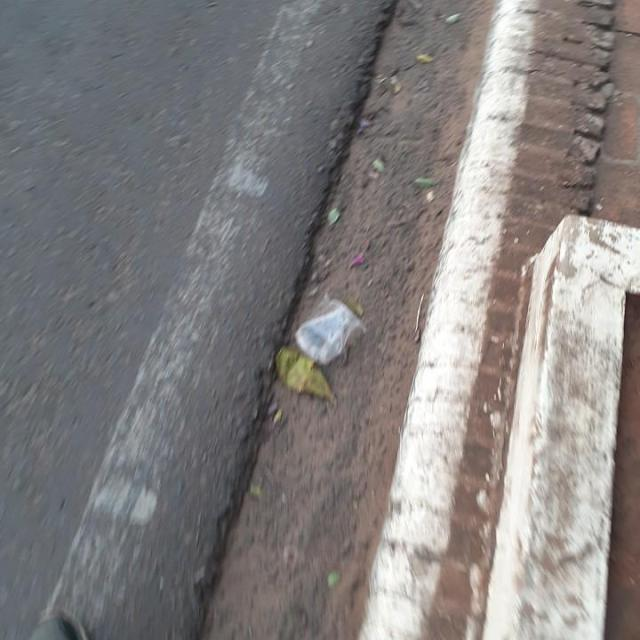litter: (297, 291, 366, 364)
